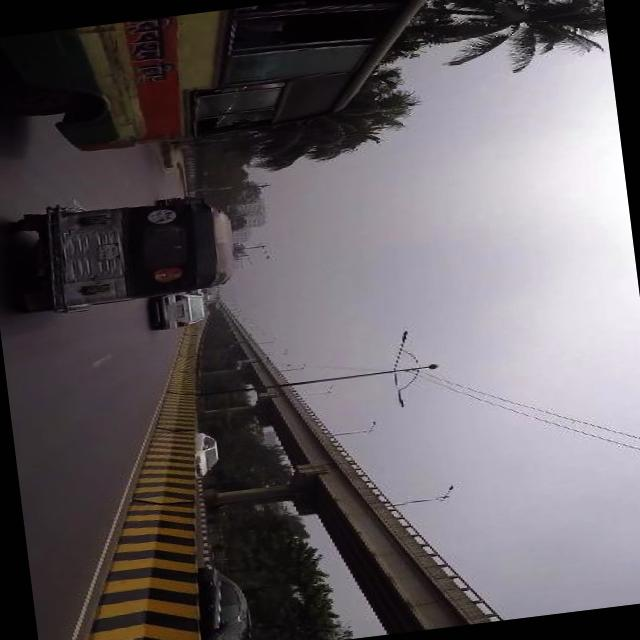bus: (0, 0, 446, 162)
car: (189, 563, 247, 640), (150, 292, 204, 332), (193, 430, 224, 474)
motorcycle: (12, 196, 236, 315)
